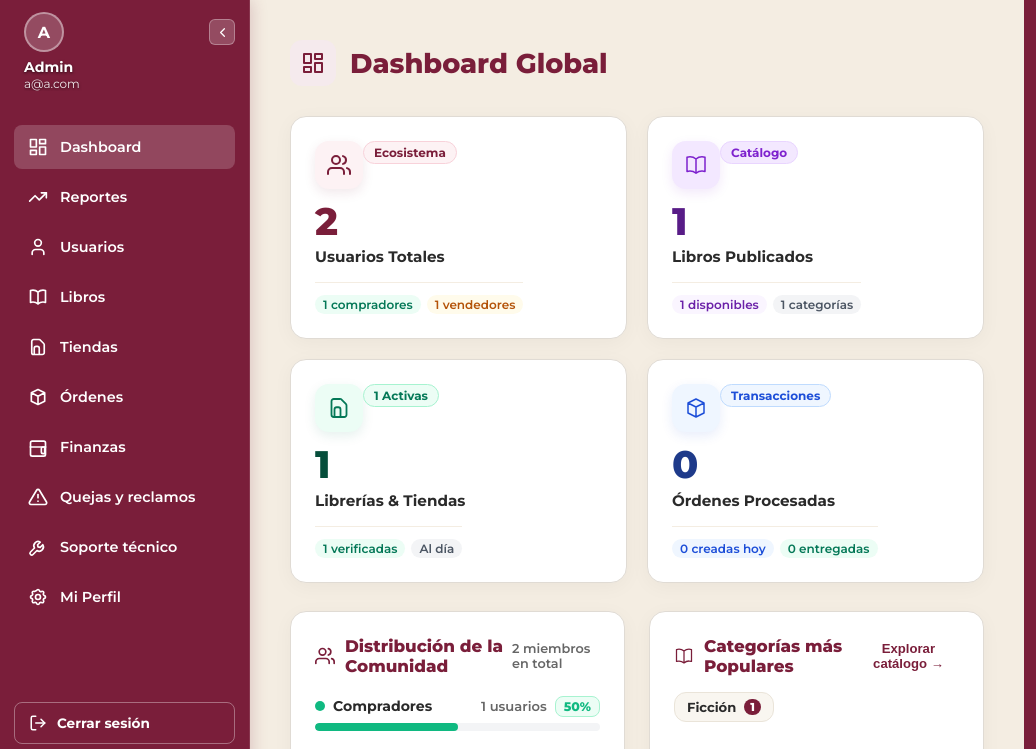
AdminDashboard — búsqueda y filtros › filtra usuarios por texto en el buscador
Click the button "Usuarios".
click(124, 247)  # box left=14, top=225, right=235, bottom=269
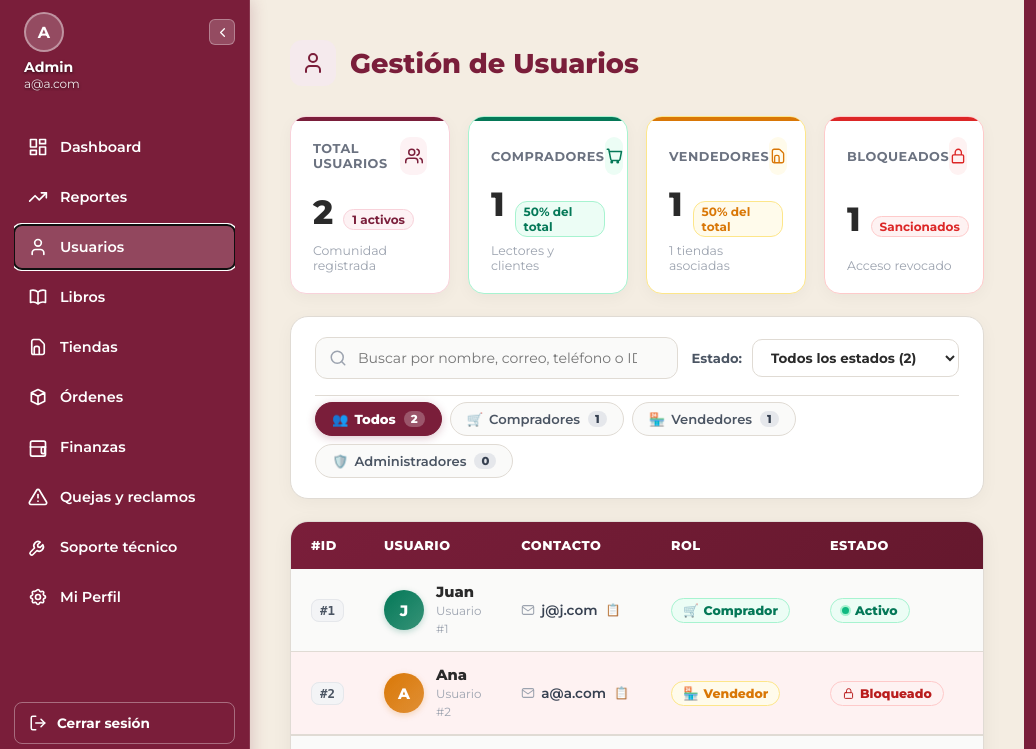
Expected: the text "Juan" is shown, left=436, top=583, right=474, bottom=601
Type "Juan" into the field.
click(496, 358); type("Juan")  # box left=315, top=337, right=678, bottom=379
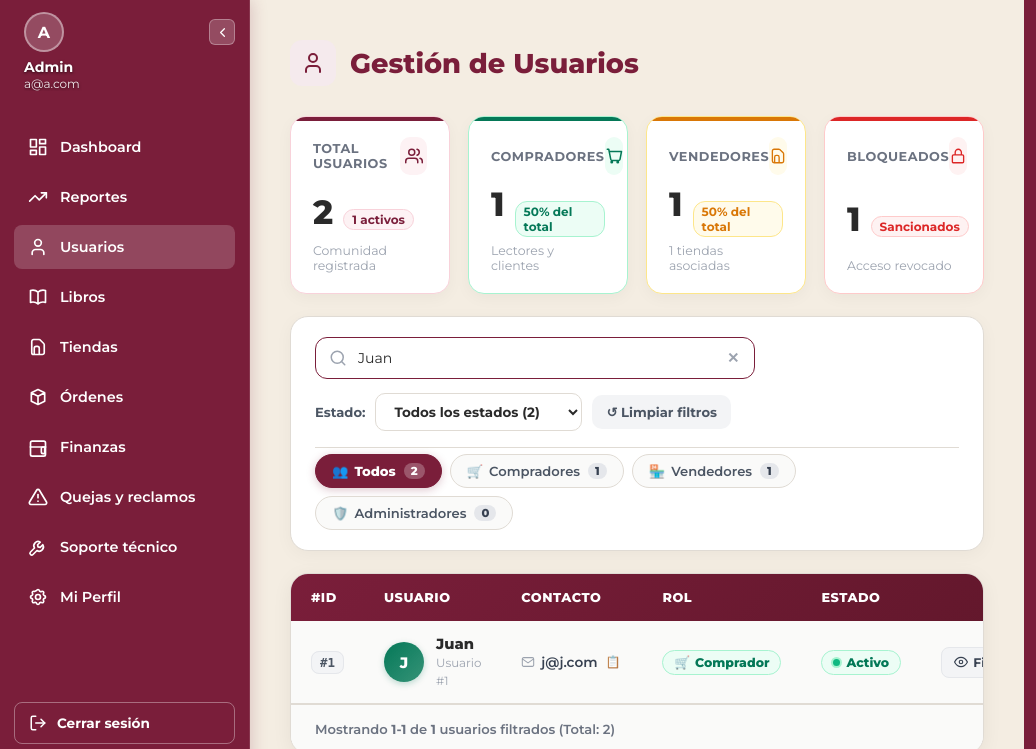
Expected: the text "Juan" is shown, left=436, top=635, right=474, bottom=653
Expected: the text "Ana" is gone
